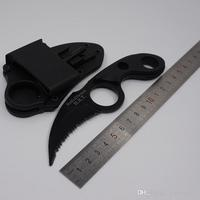knife: (46, 52, 168, 190)
